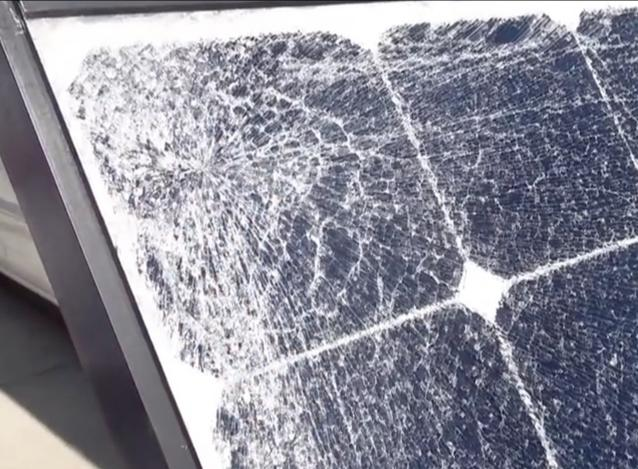Crack: (213, 10, 637, 468), (83, 52, 336, 271)
